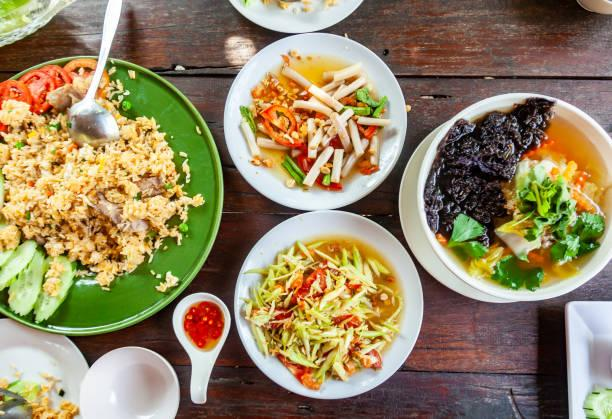Braised Crucian Carp: (5, 57, 223, 332), (400, 93, 608, 302), (233, 210, 423, 401), (222, 32, 405, 210)
